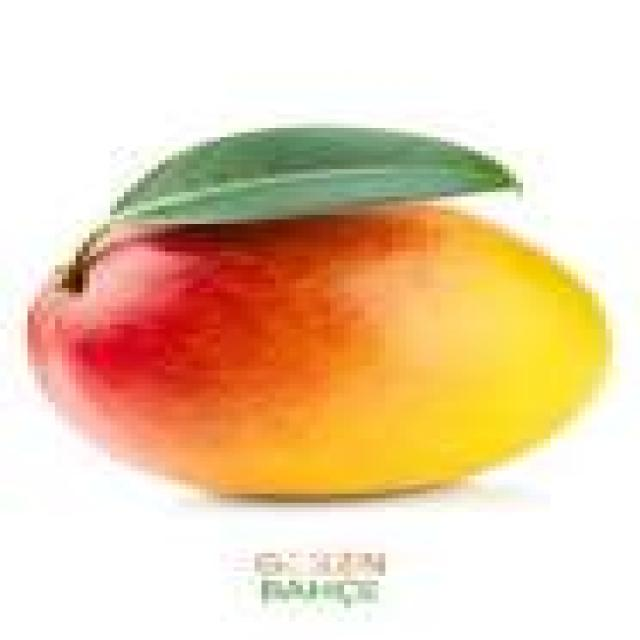mango: (32, 129, 606, 495)
